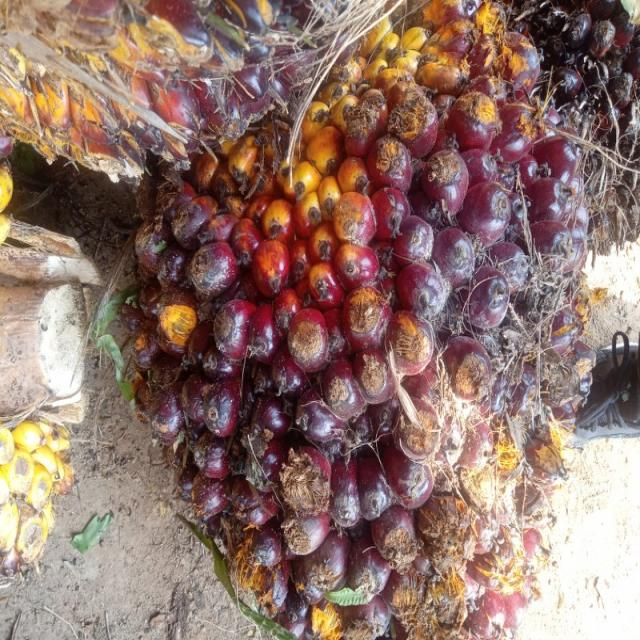fraksi 1: (114, 1, 582, 640)
